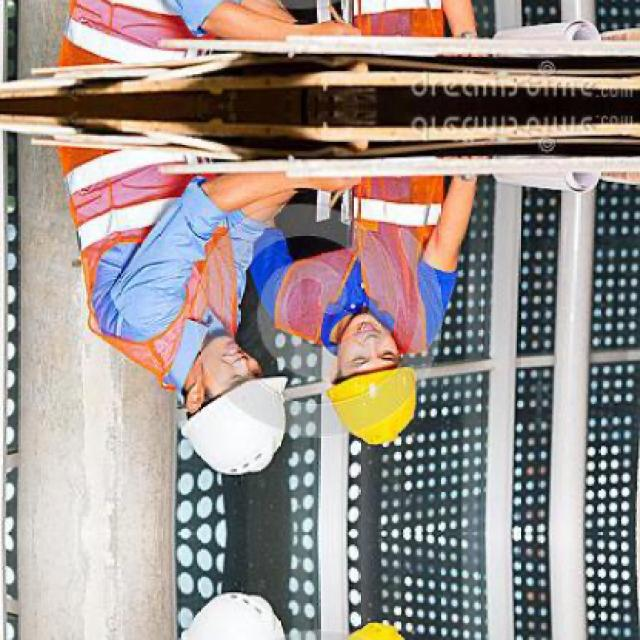con casco: (310, 287, 476, 461), (157, 310, 304, 476)
